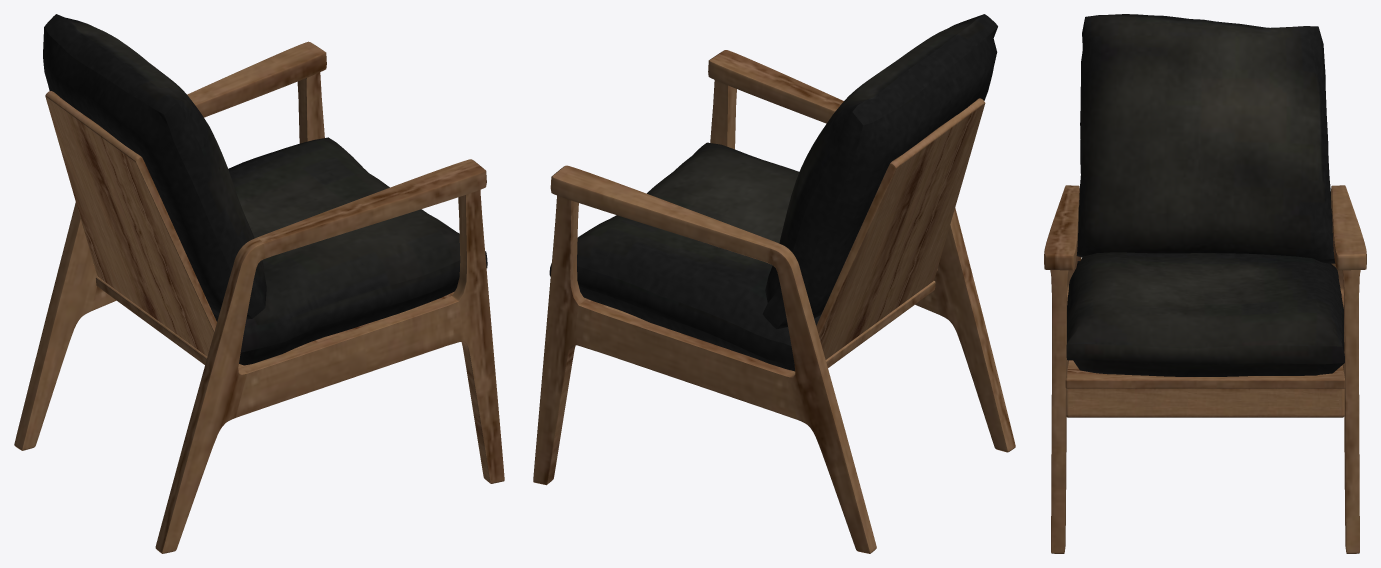
Rendered from wachtstoel.glb.
The picture shows the model from 3 angles, left to right: view 1: azimuth 30°, elevation 25°; view 2: azimuth 150°, elevation 25°; view 3: azimuth 270°, elevation 25°; orthographic projection. The views are drawn at different scales.
Size of the model in its own units: 0.68 by 0.85 by 0.62.
2 materials, 2 textured.
